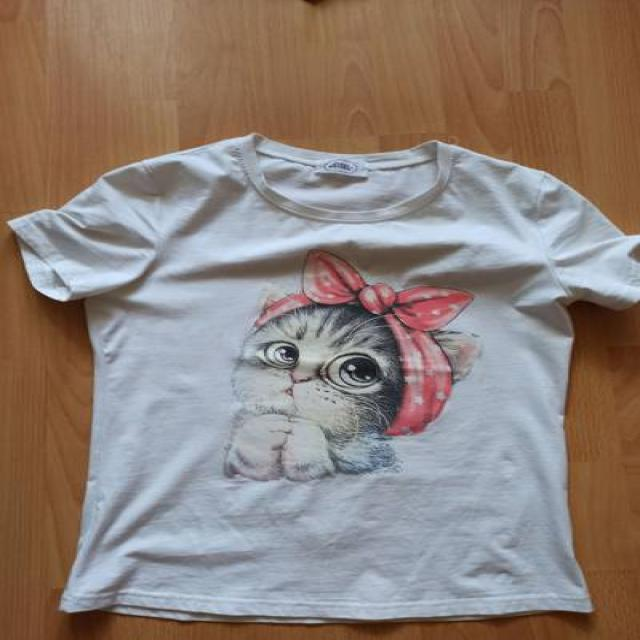Clothes -Biodegradable-: (5, 131, 640, 628)
